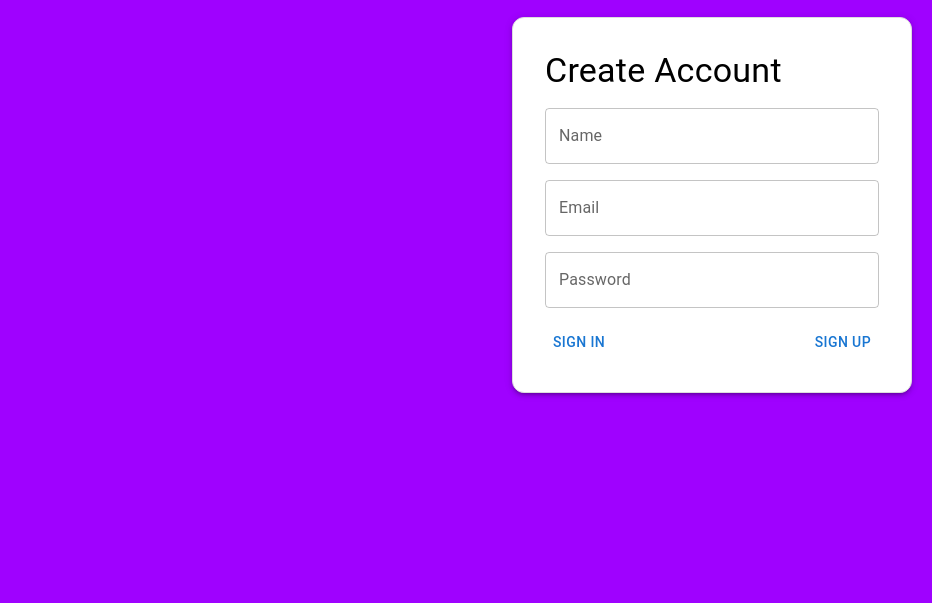
Scenario: SignUpForm Component › validates minimum password length
The image size is (932, 603).
Type "Alice" into the field labelled "Name".
click(712, 136); type("Alice")  # box [545,108,879,164]
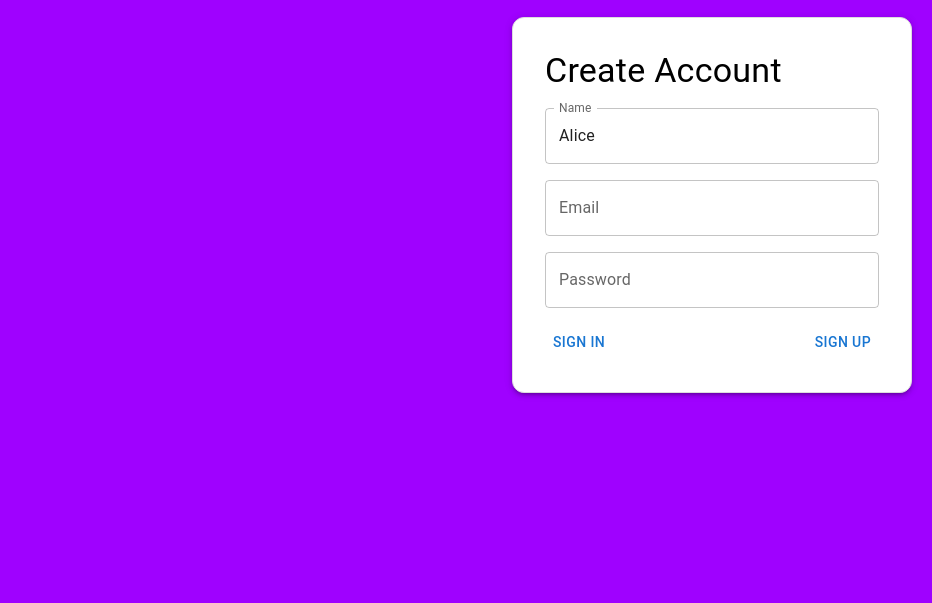
Type "alice@example.com" into the field labelled "Email".
click(712, 208); type("alice@example.com")  # box [545,180,879,236]
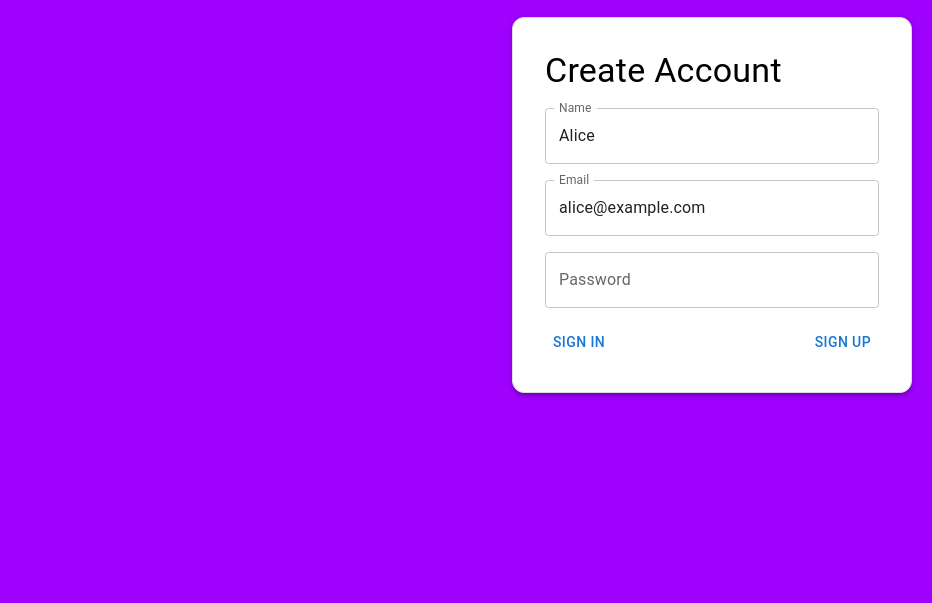
Type "123" into the password field labelled "Password".
click(712, 280); type("123")  # box [545,252,879,308]
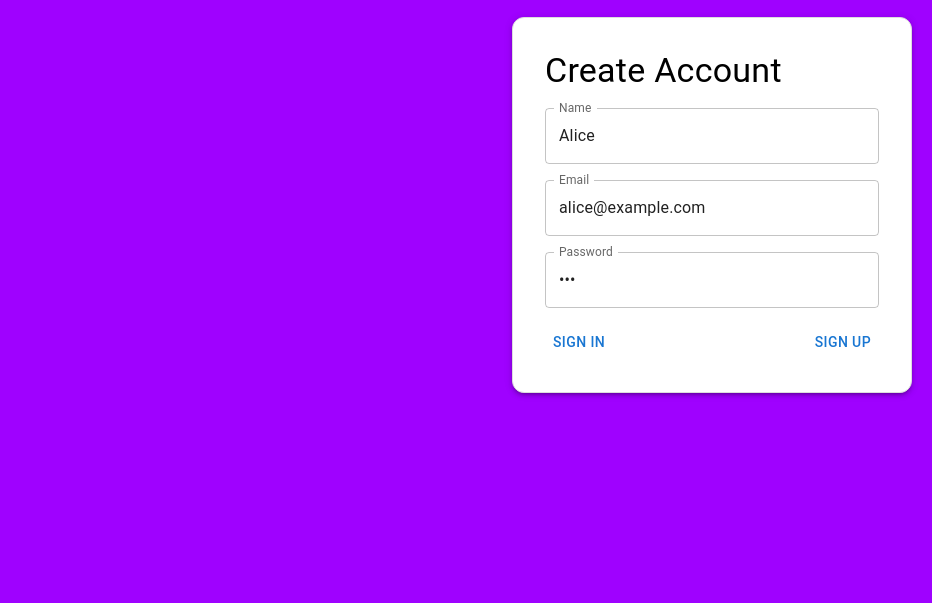
Click the button "Sign Up".
click(843, 342)  # box [807,324,879,360]
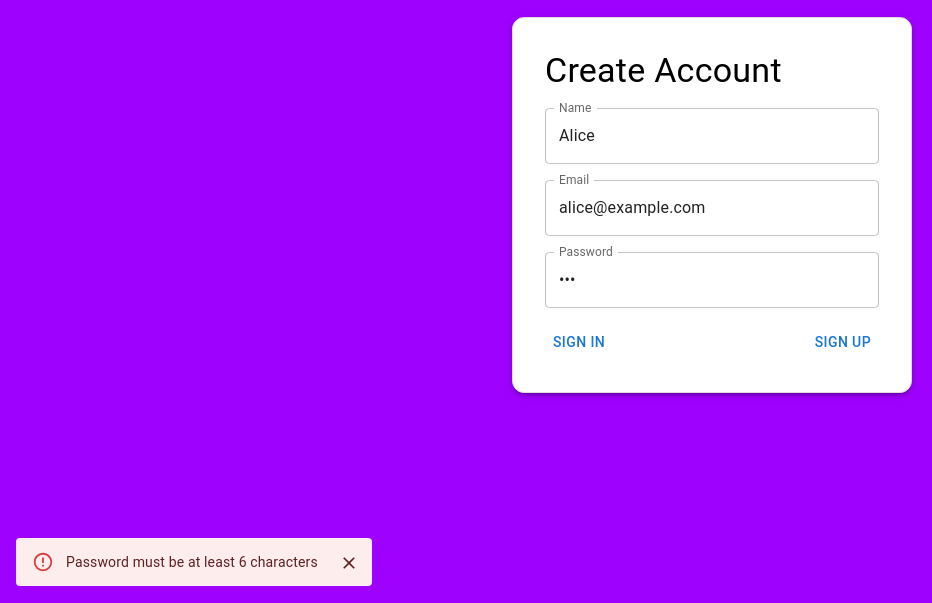
Result: the text "Password must be at least 6 characters" is shown at [66,554,318,570]
